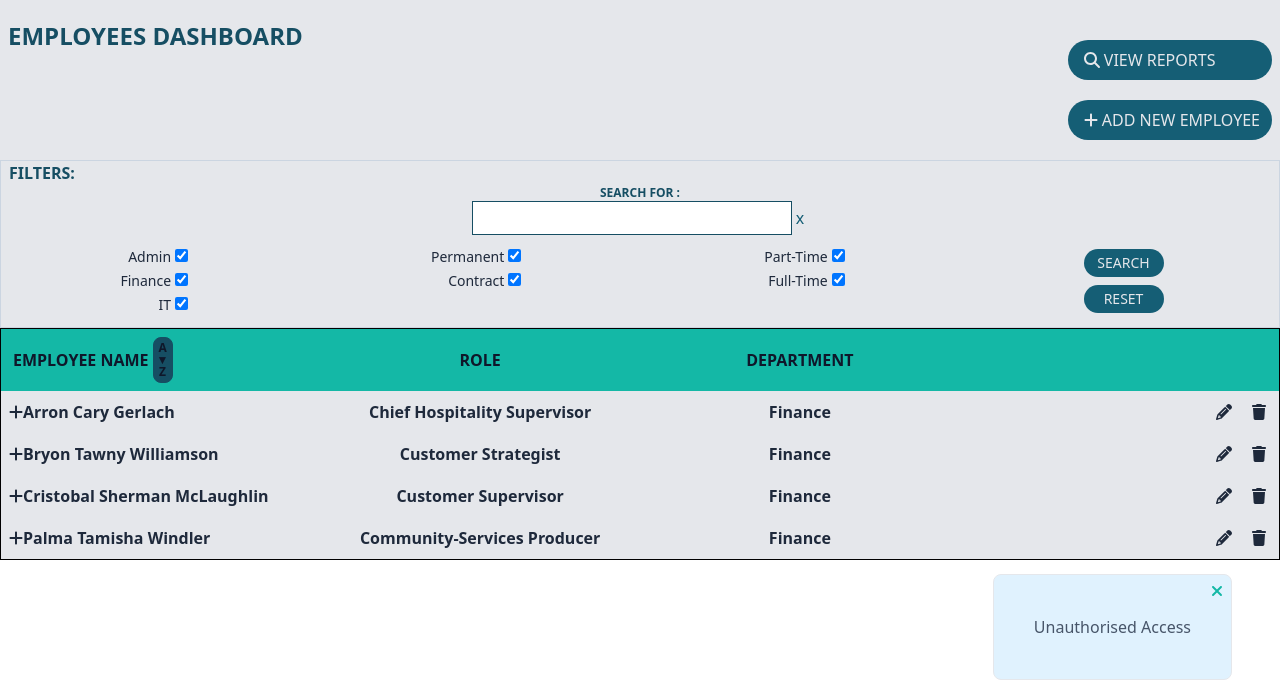
Test: Employee User Interaction Tests › Should open add user form when add new employee button is clicked
Click the button "Add New Employee". click: (1170, 120)
box: [1068, 100, 1272, 140]
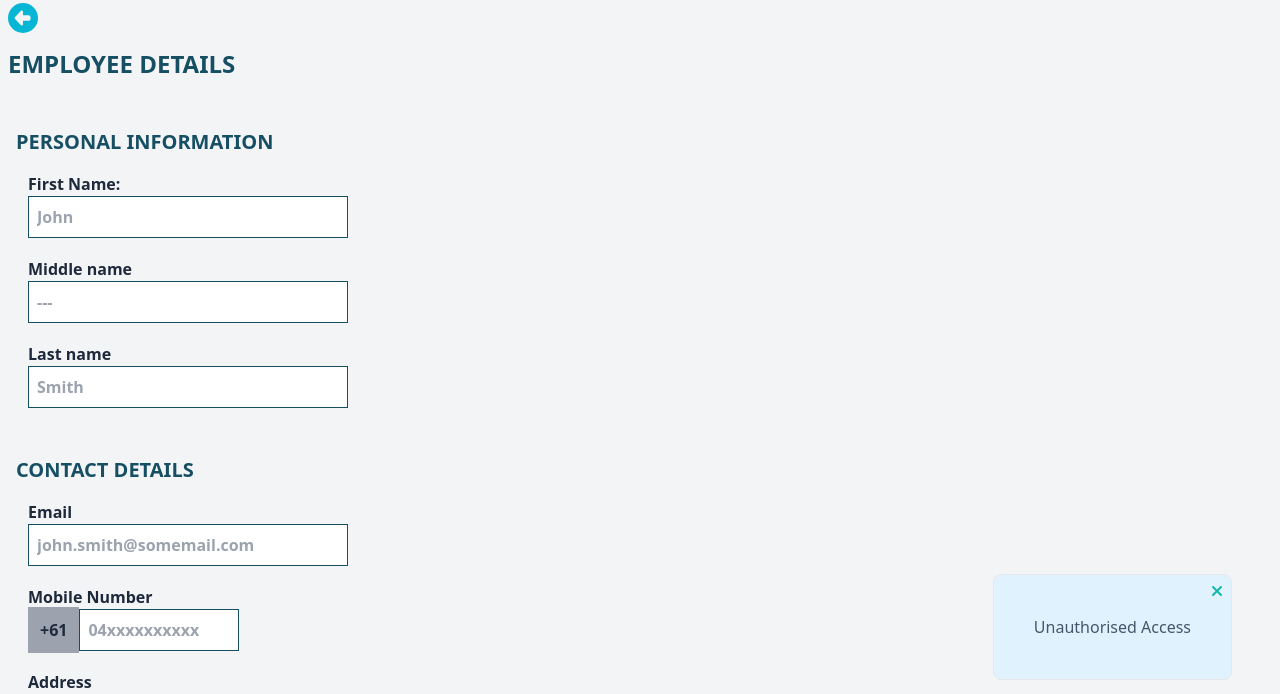
Expected: the heading "Employee Details" is shown, [8, 47, 235, 80]
